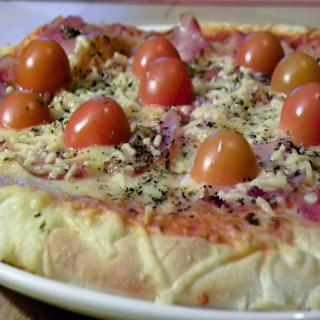tomato: (190, 128, 261, 185), (63, 93, 131, 149), (18, 36, 74, 93), (136, 57, 195, 103), (280, 82, 320, 148), (0, 86, 52, 132), (129, 34, 181, 78), (271, 51, 320, 96), (238, 31, 283, 76)
